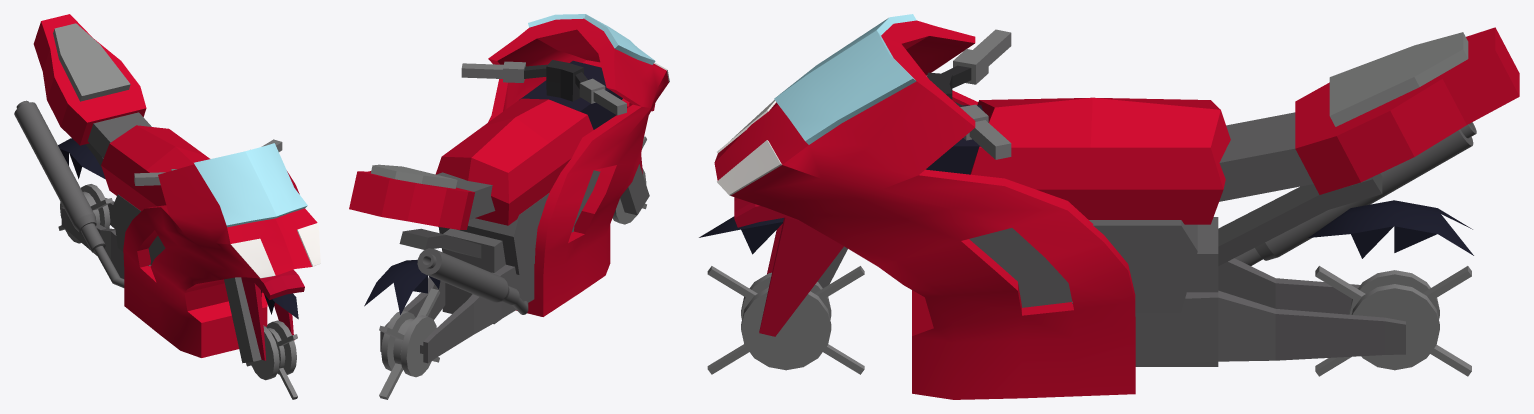
File: body.glb
The picture shows the model from 3 angles, left to right: view 1: azimuth 30°, elevation 25°; view 2: azimuth 150°, elevation 25°; view 3: azimuth 270°, elevation 25°; orthographic projection. The views are drawn at different scales.
Parts seen in each view (by area): view 1: Cube.174_Texture_0; view 2: Cube.174_Texture_0; view 3: Cube.174_Texture_0.
Boxes of the visible parts, x1,y1,x2,y2 form: Cube.174_Texture_0: (14, 14, 320, 399); Cube.174_Texture_0: (349, 14, 669, 399); Cube.174_Texture_0: (699, 14, 1519, 399).
Size of the model in its own units: 5.14 by 7.06 by 15.25.
Materials: 1 (1 with a texture image).
